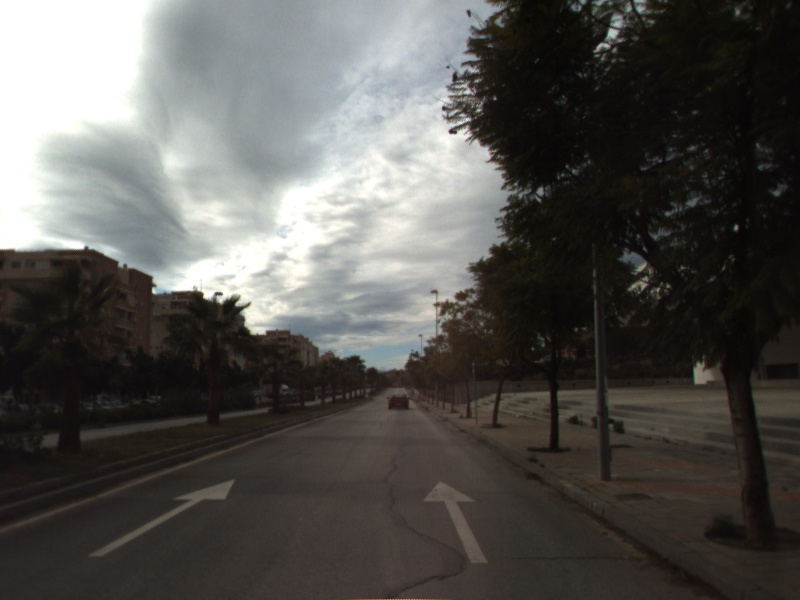STRAIGHT: (87, 477, 237, 559), (420, 478, 491, 565)
